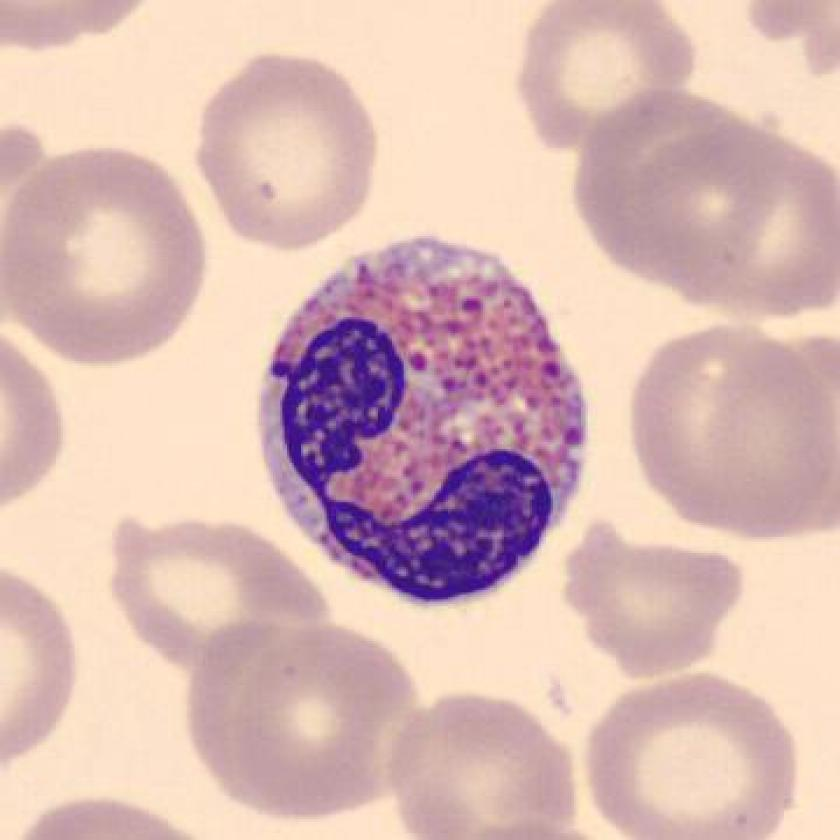eosinophil: (248, 223, 603, 617)
